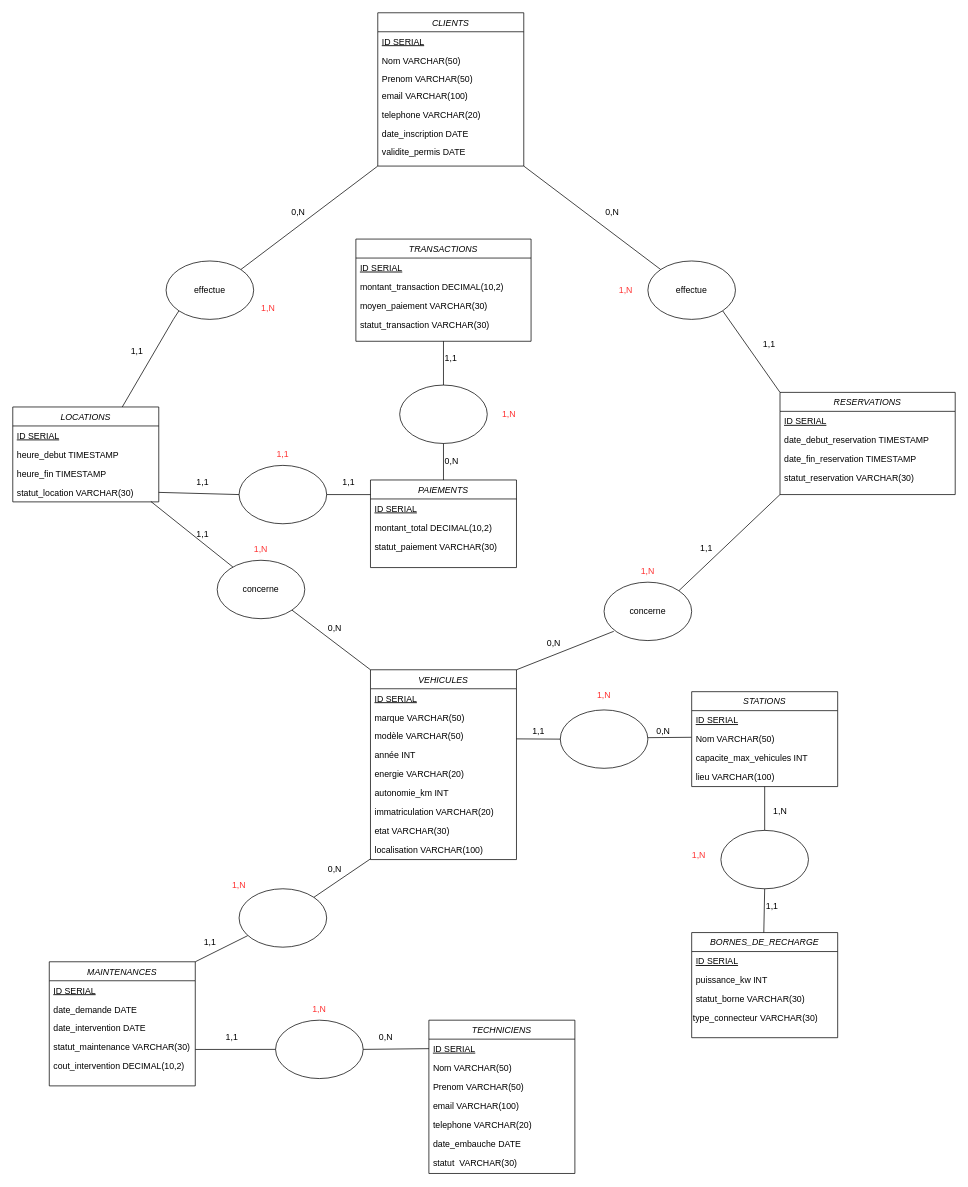
Some shapes in this 968 by 1187 pixel diagram are drawn without their labels. The shapes that lost their labels are listed below. From the top down, each one's centre as x and y in pixels, then its label:
At point (443, 413): "comprend".
At point (282, 494): "necessite".
At point (604, 738): "contient".
At point (764, 859): "possède".
At point (282, 917): "subit".
At point (319, 1049): "réalise".
